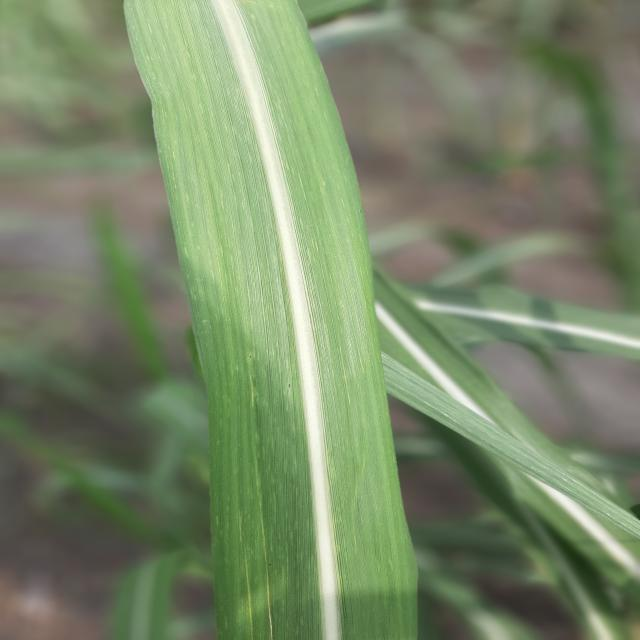Sugarcane: (122, 0, 421, 639)
